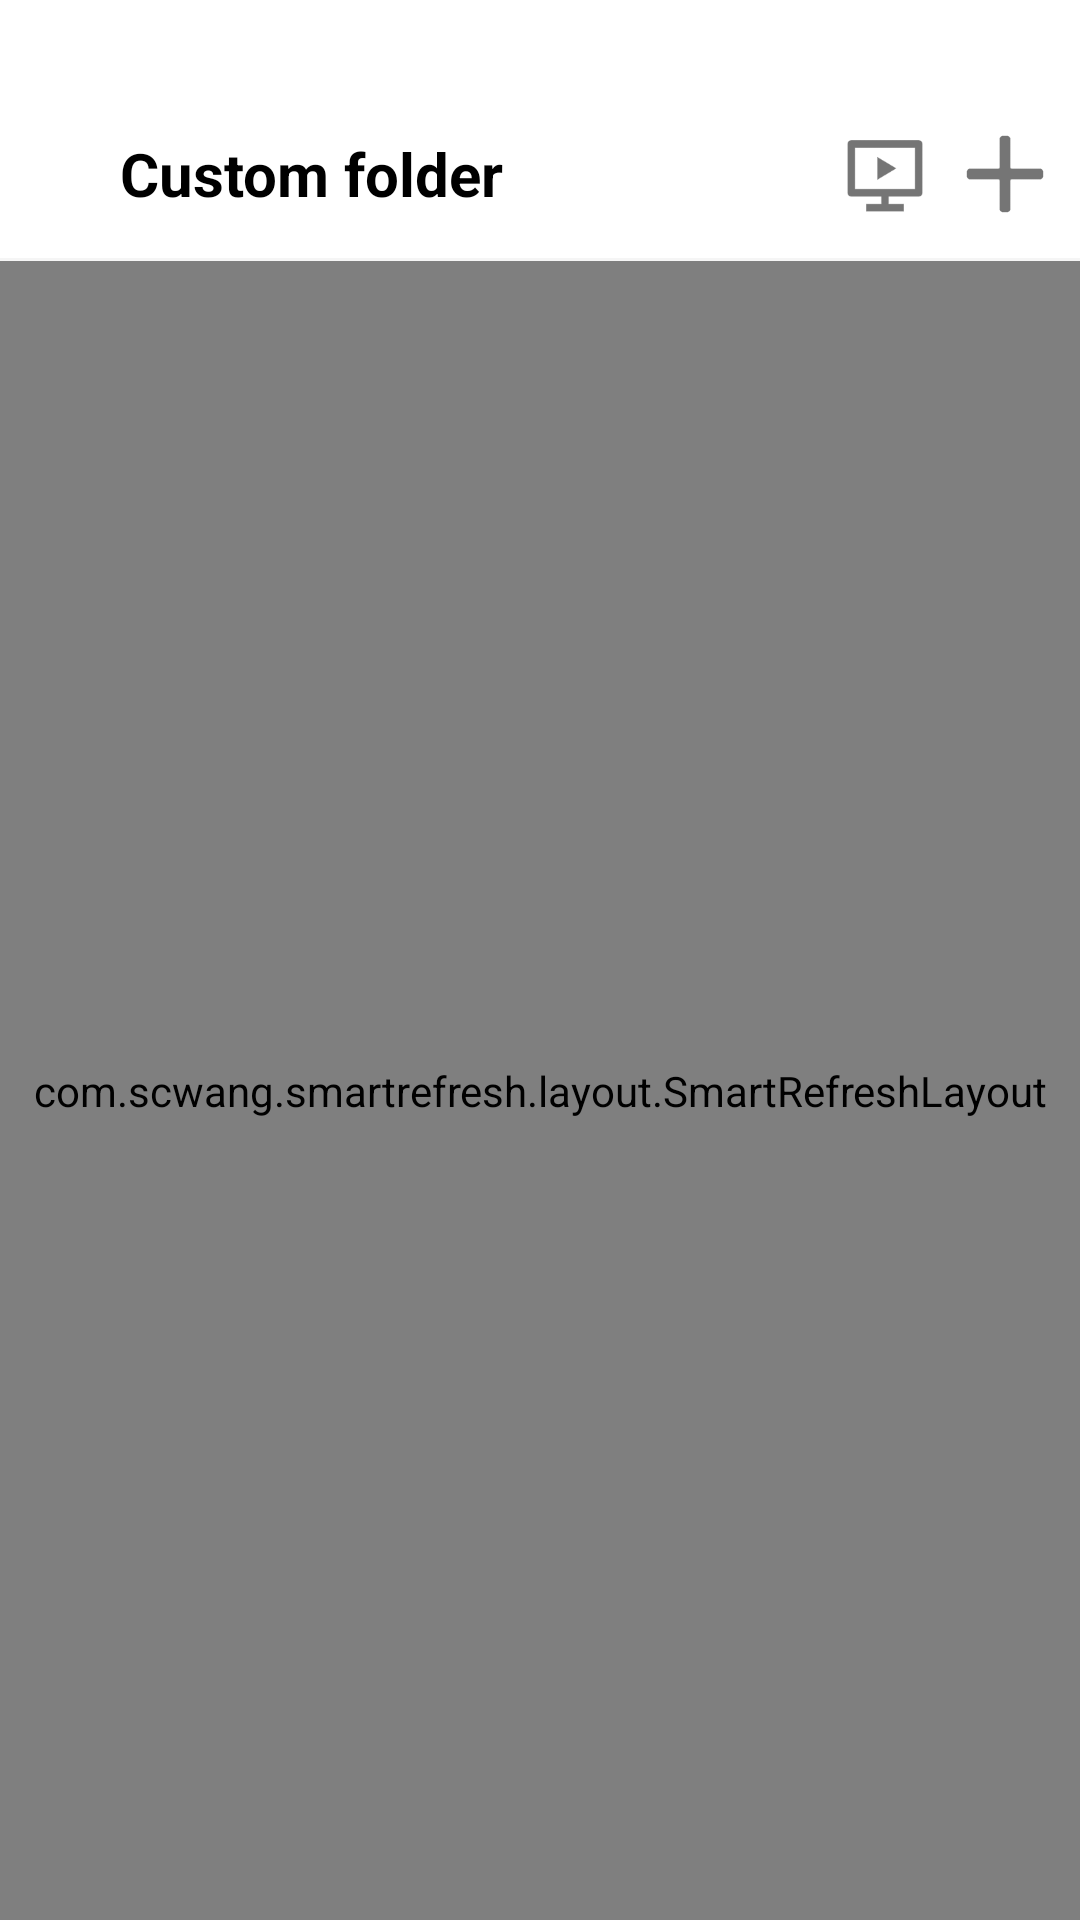

Screen size 1080px×1920px. Icon name, then its box in pixels as [x1, y1, x2, y2]:
add: [966, 135, 1044, 213]
slideshow: [847, 140, 923, 212]
